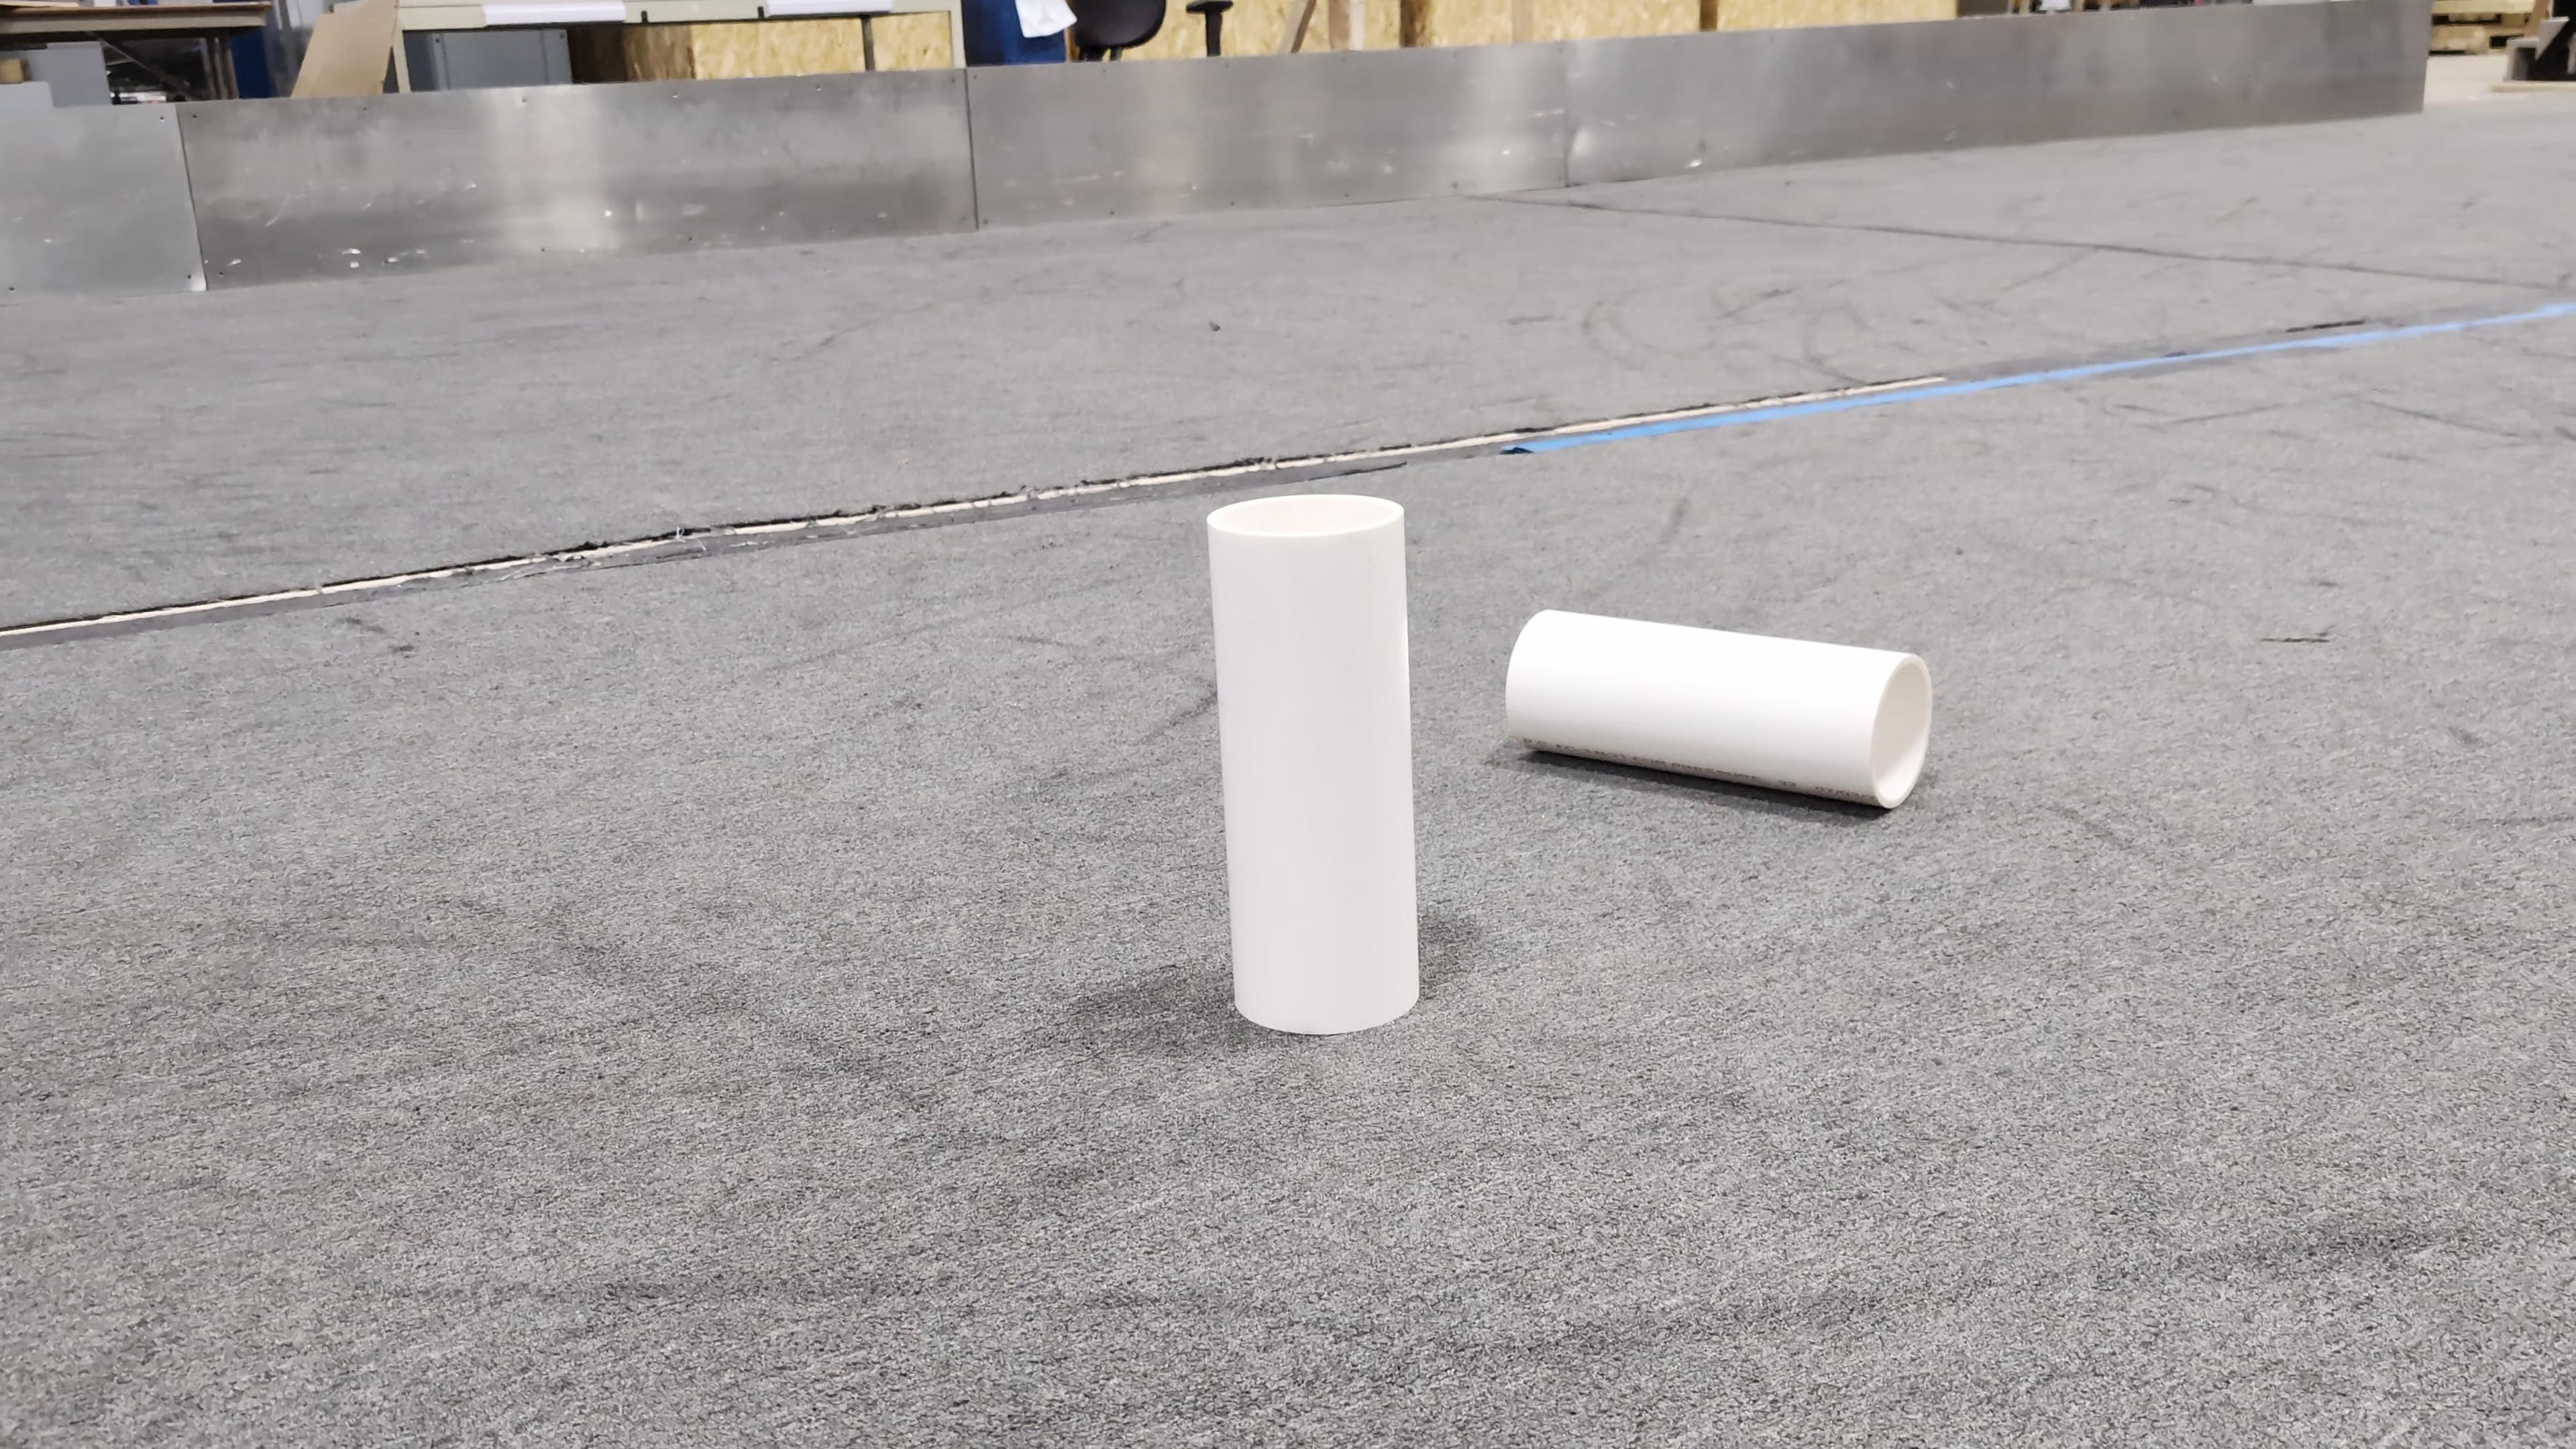coral: (1198, 487, 1422, 1033), (1506, 607, 1934, 810)
